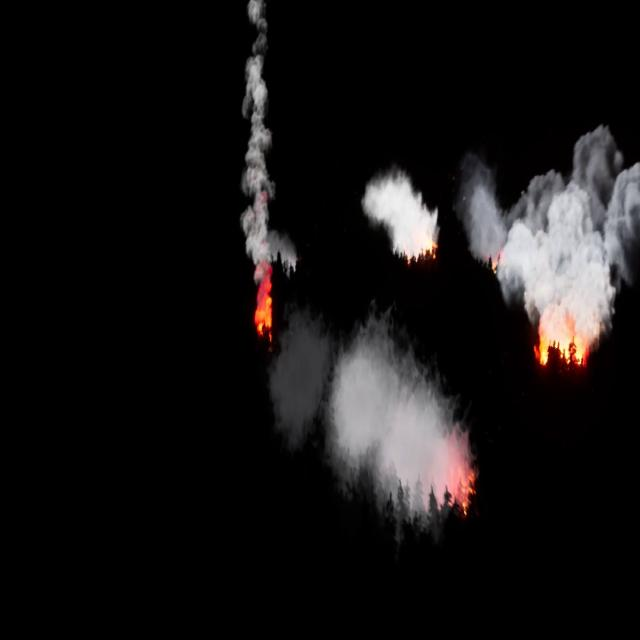fire: (535, 323, 588, 363), (251, 274, 275, 337), (450, 469, 480, 512)
smoke: (267, 308, 473, 512), (462, 120, 639, 328), (240, 0, 298, 274), (362, 159, 448, 257)
